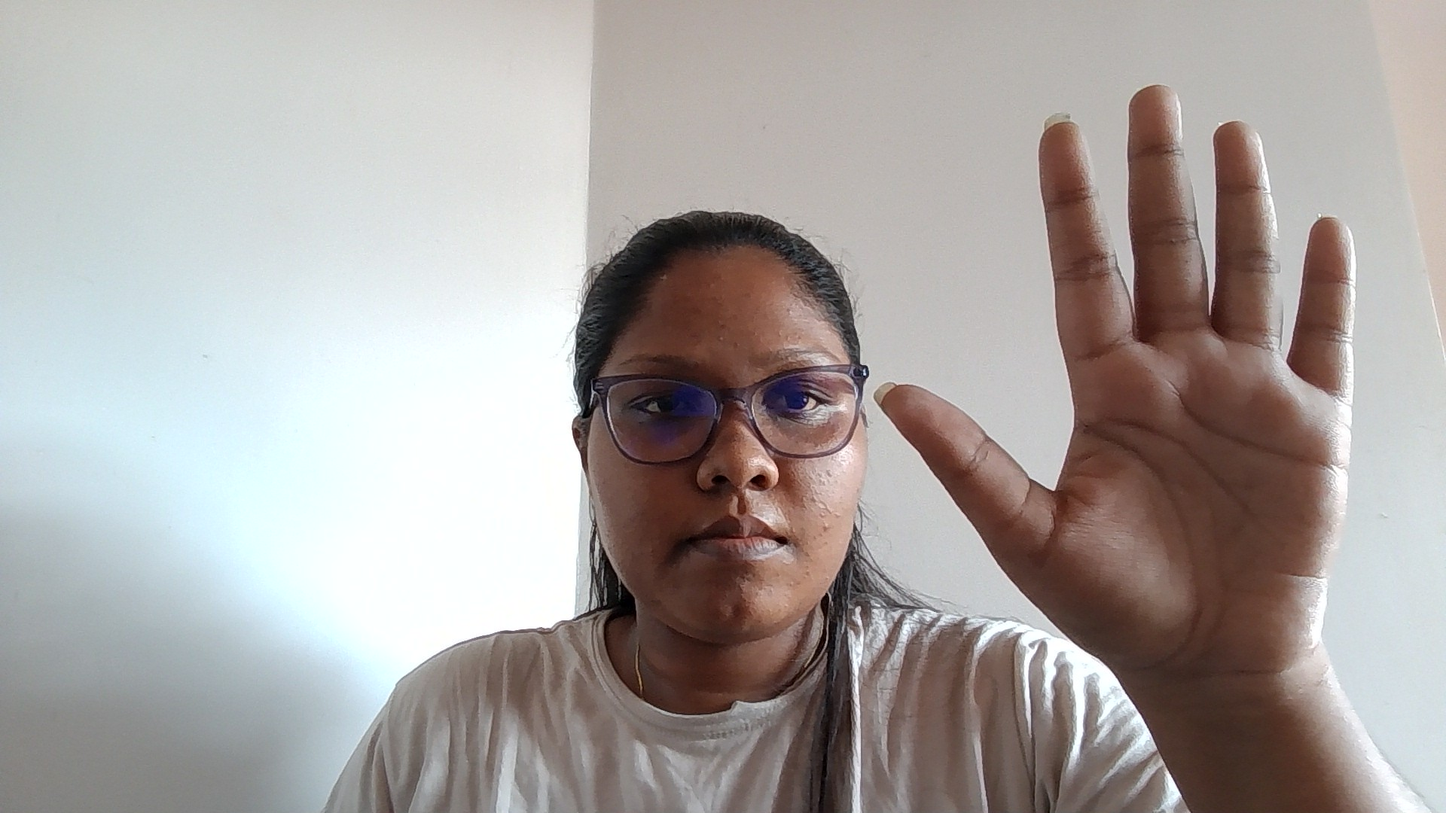Hello: (868, 87, 1423, 679)
